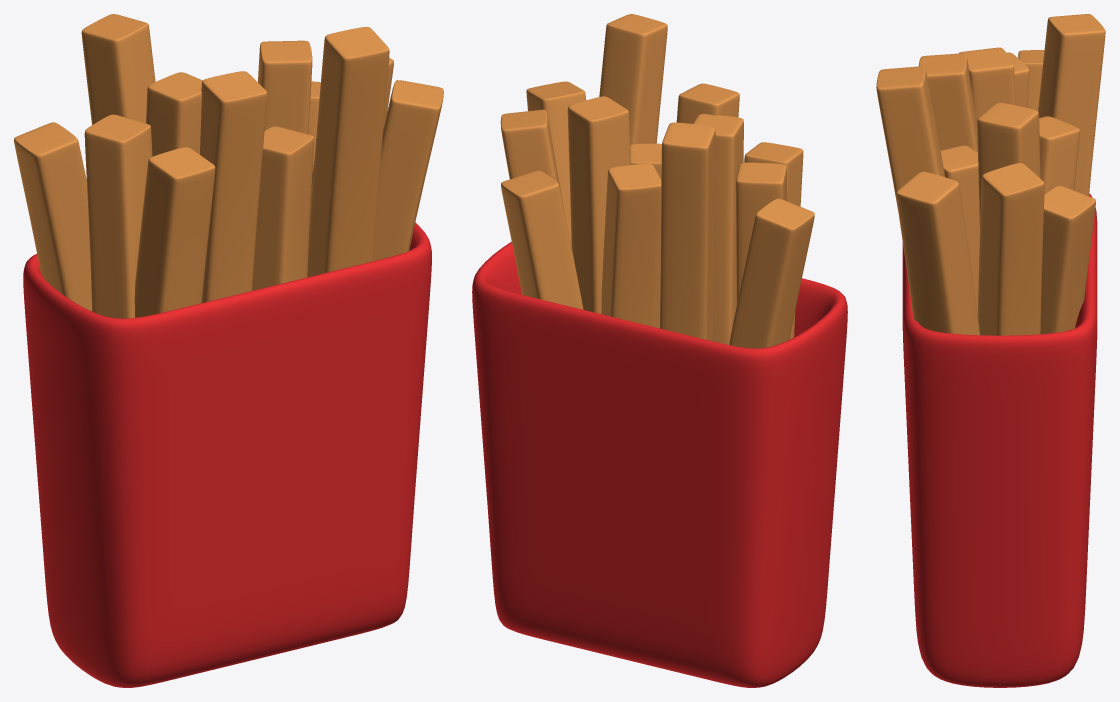
The model's file is Fries.fbx.
The picture shows the model from 3 angles, left to right: view 1: azimuth 30°, elevation 25°; view 2: azimuth 150°, elevation 25°; view 3: azimuth 270°, elevation 25°; orthographic projection. The views are drawn at different scales.
Visible parts, largest first — view 1: Cup, Cube.006, Cube.010, Cube.005, Cube.003, Cube.001, Cube.008, Cube.012, Cube.002, Cube.007, Cube.004; view 2: Cup, Cube.002, Cube.009, Cube.007, Cube.001, Cube.013, Cube.006, Cube.004, Cube.003, Cube.011, Cube.012, Cube.010 (+2 smaller); view 3: Cup, Cube.011, Cube.012, Cube.002, Cube.013, Cube.006, Cube.007, Cube.010, Cube.008, Cube.004, Cube.009, Cube.001 (+1 smaller).
Part boxes in pixels (bbox=[...]): Cup: bbox=[23, 222, 431, 687]; Cube.006: bbox=[307, 27, 389, 277]; Cube.010: bbox=[200, 71, 267, 302]; Cube.005: bbox=[134, 147, 215, 317]; Cube.003: bbox=[84, 114, 152, 318]; Cube.001: bbox=[14, 122, 91, 311]; Cube.008: bbox=[252, 126, 313, 290]; Cube.012: bbox=[373, 80, 443, 261]; Cube.002: bbox=[81, 14, 155, 124]; Cube.007: bbox=[258, 40, 312, 133]; Cube.004: bbox=[146, 72, 202, 156]; Cup: bbox=[472, 242, 847, 687]; Cube.002: bbox=[659, 122, 715, 341]; Cube.009: bbox=[601, 163, 661, 327]; Cube.007: bbox=[567, 96, 630, 313]; Cube.001: bbox=[729, 198, 814, 348]; Cube.013: bbox=[501, 170, 583, 309]; Cube.006: bbox=[599, 14, 667, 144]; Cube.004: bbox=[693, 113, 743, 344]; Cube.003: bbox=[736, 162, 787, 304]; Cube.011: bbox=[500, 109, 563, 206]; Cube.012: bbox=[526, 81, 586, 246]; Cube.010: bbox=[676, 83, 739, 123]; Cup: bbox=[902, 193, 1097, 687]; Cube.011: bbox=[977, 163, 1044, 335]; Cube.012: bbox=[896, 171, 979, 335]; Cube.002: bbox=[1038, 14, 1105, 196]; Cube.013: bbox=[1040, 185, 1095, 334]; Cube.006: bbox=[876, 66, 945, 210]; Cube.007: bbox=[977, 102, 1040, 226]; Cube.010: bbox=[919, 53, 977, 152]; Cube.008: bbox=[940, 145, 979, 313]; Cube.004: bbox=[959, 47, 1016, 124]; Cube.009: bbox=[1039, 116, 1079, 194]; Cube.001: bbox=[1018, 50, 1044, 110].
Bounding box in the file's own units: 287 × 472 × 167.
